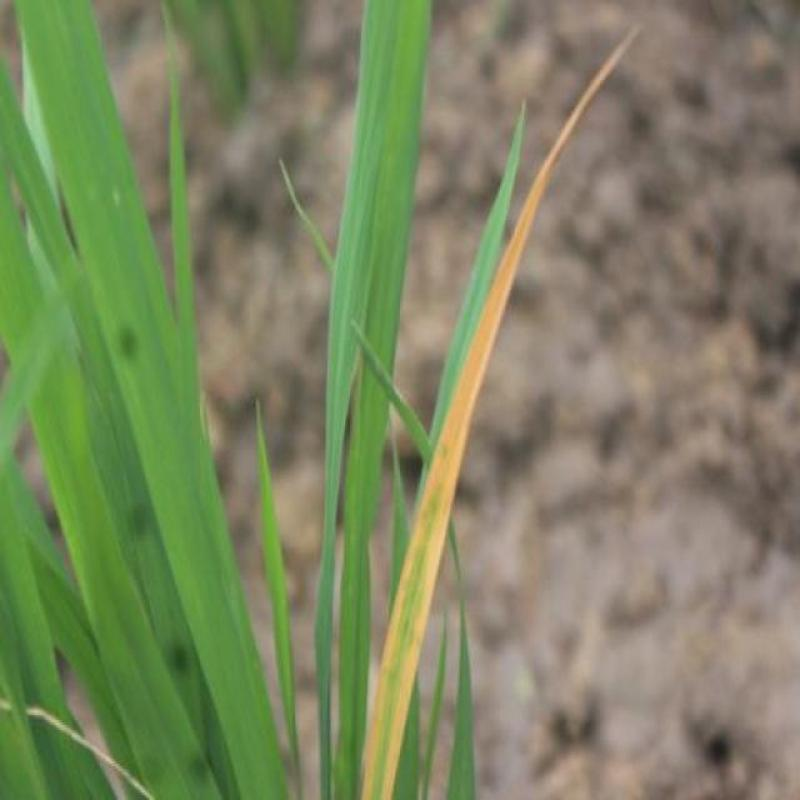Rice Tungro: (418, 266, 536, 532)
